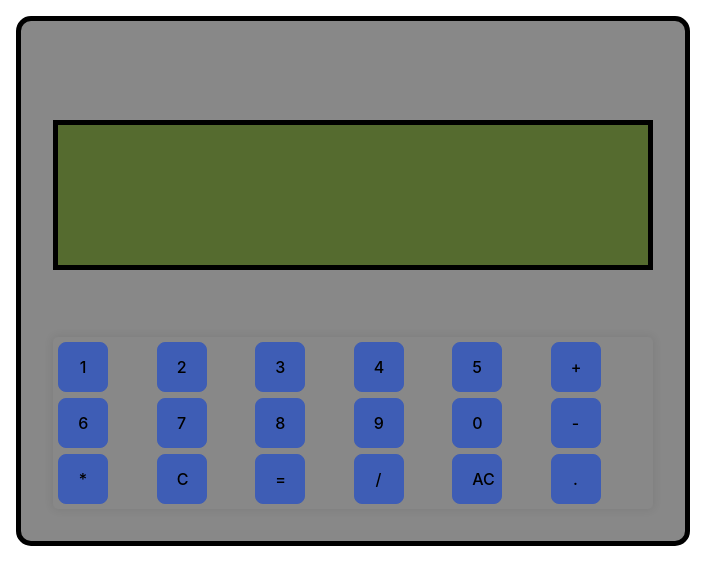
Scenario: Calculator performs multiplication
What coordinates should you click on to do the following:
click the button "1"
I would click on:
 (83, 367)
Its box is top-left (58, 342), bottom-right (108, 392).
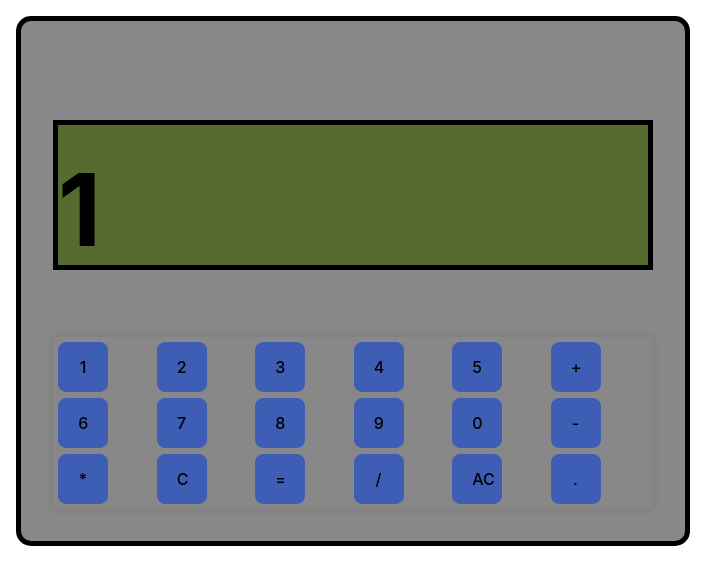
What coordinates should you click on to do the following:
click the button "2"
I would click on:
 (182, 367)
Its box is top-left (156, 342), bottom-right (206, 392).
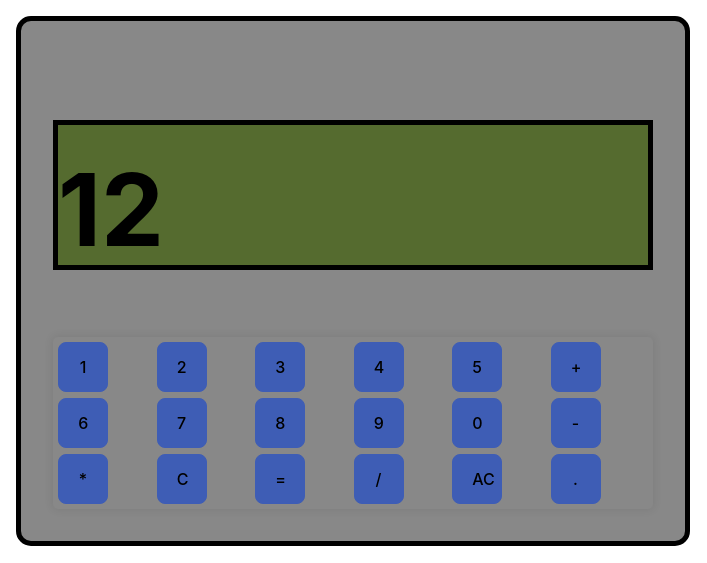
What coordinates should you click on to do the following:
click the button "*"
I would click on:
 (83, 479)
Its box is top-left (58, 454), bottom-right (108, 504).
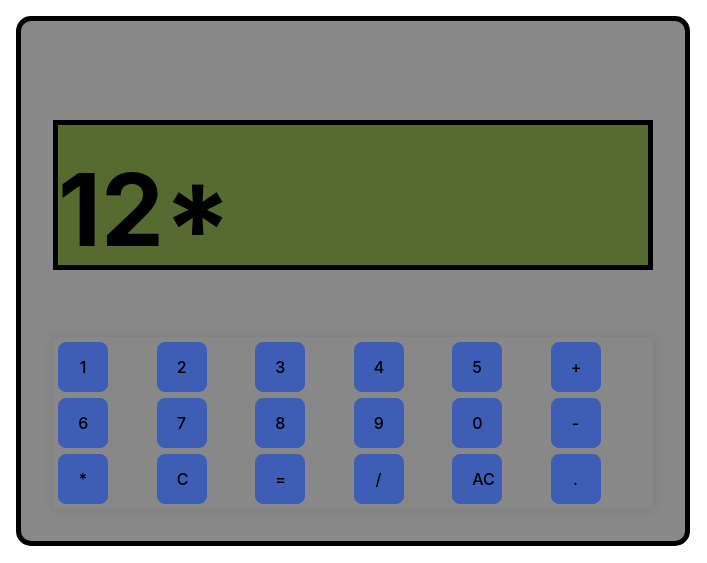
What coordinates should you click on to do the following:
click the button "3"
I would click on:
 (280, 367)
Its box is top-left (255, 342), bottom-right (305, 392).
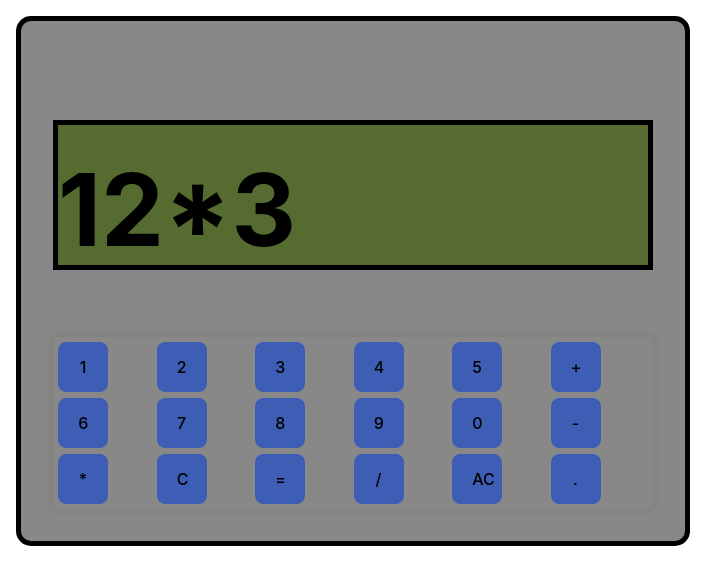
What coordinates should you click on to do the following:
click the button "="
I would click on:
 (280, 479)
Its box is top-left (255, 454), bottom-right (305, 504).
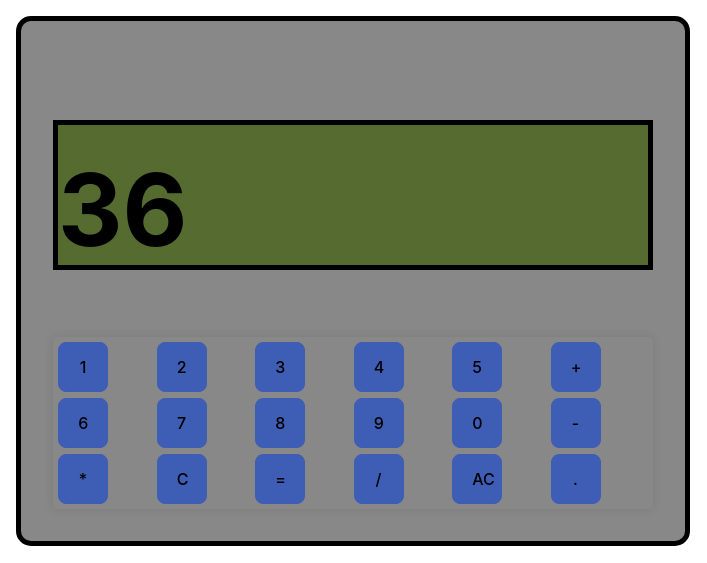
Expected: the heading "36" is shown, top-left (53, 120), bottom-right (653, 270)
